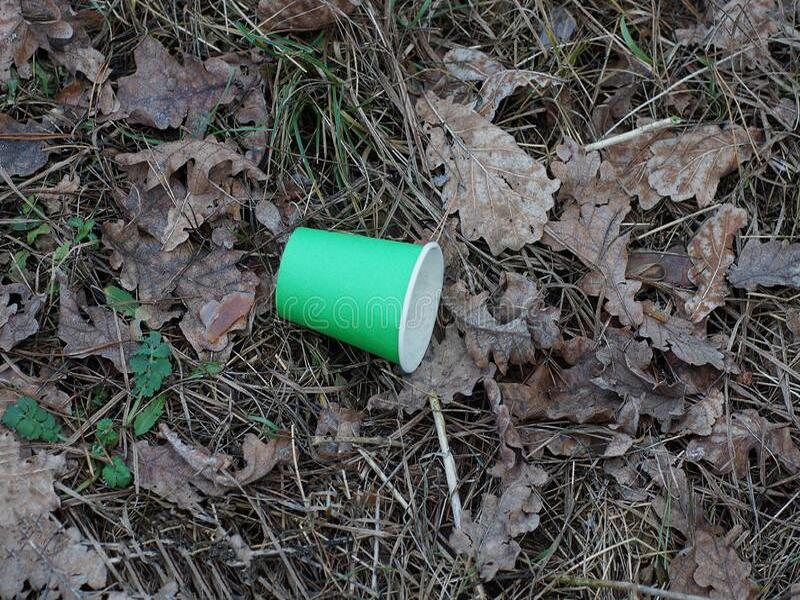cup: (268, 223, 446, 375)
leaf: (409, 91, 559, 259), (542, 149, 657, 326), (101, 39, 274, 129), (451, 462, 558, 584), (647, 115, 761, 210), (106, 133, 275, 194), (94, 217, 197, 309), (682, 204, 756, 325), (446, 293, 541, 375)
